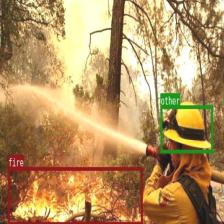fire: (7, 167, 142, 224)
